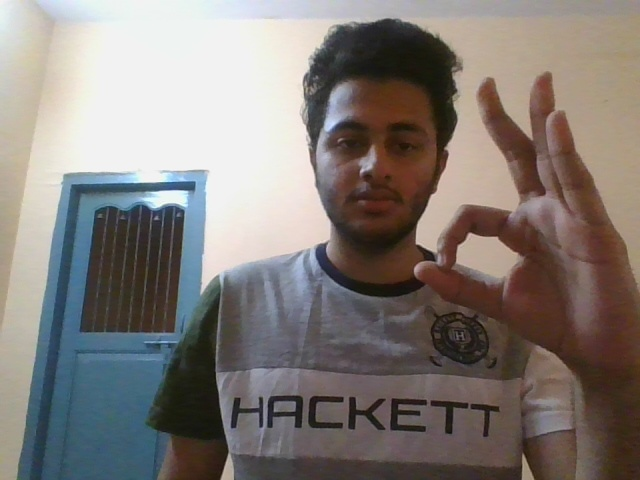Ok: (410, 69, 640, 367)
